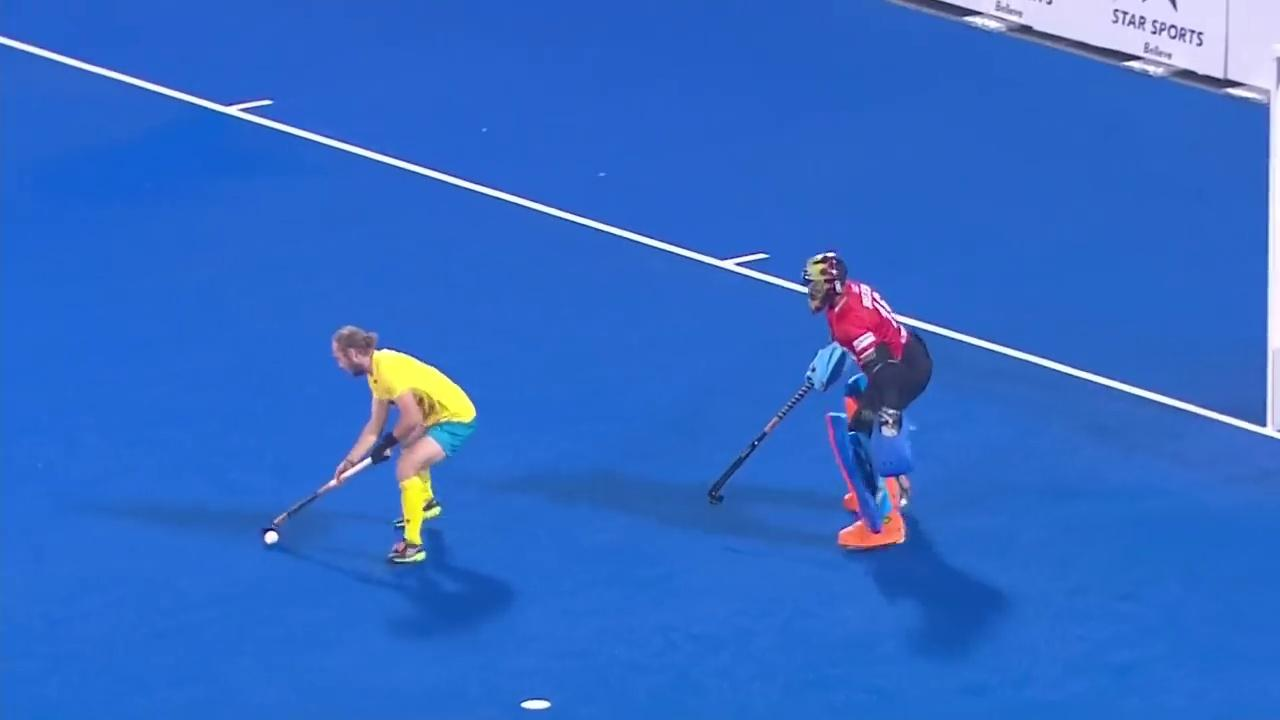ball: (242, 509, 309, 562)
